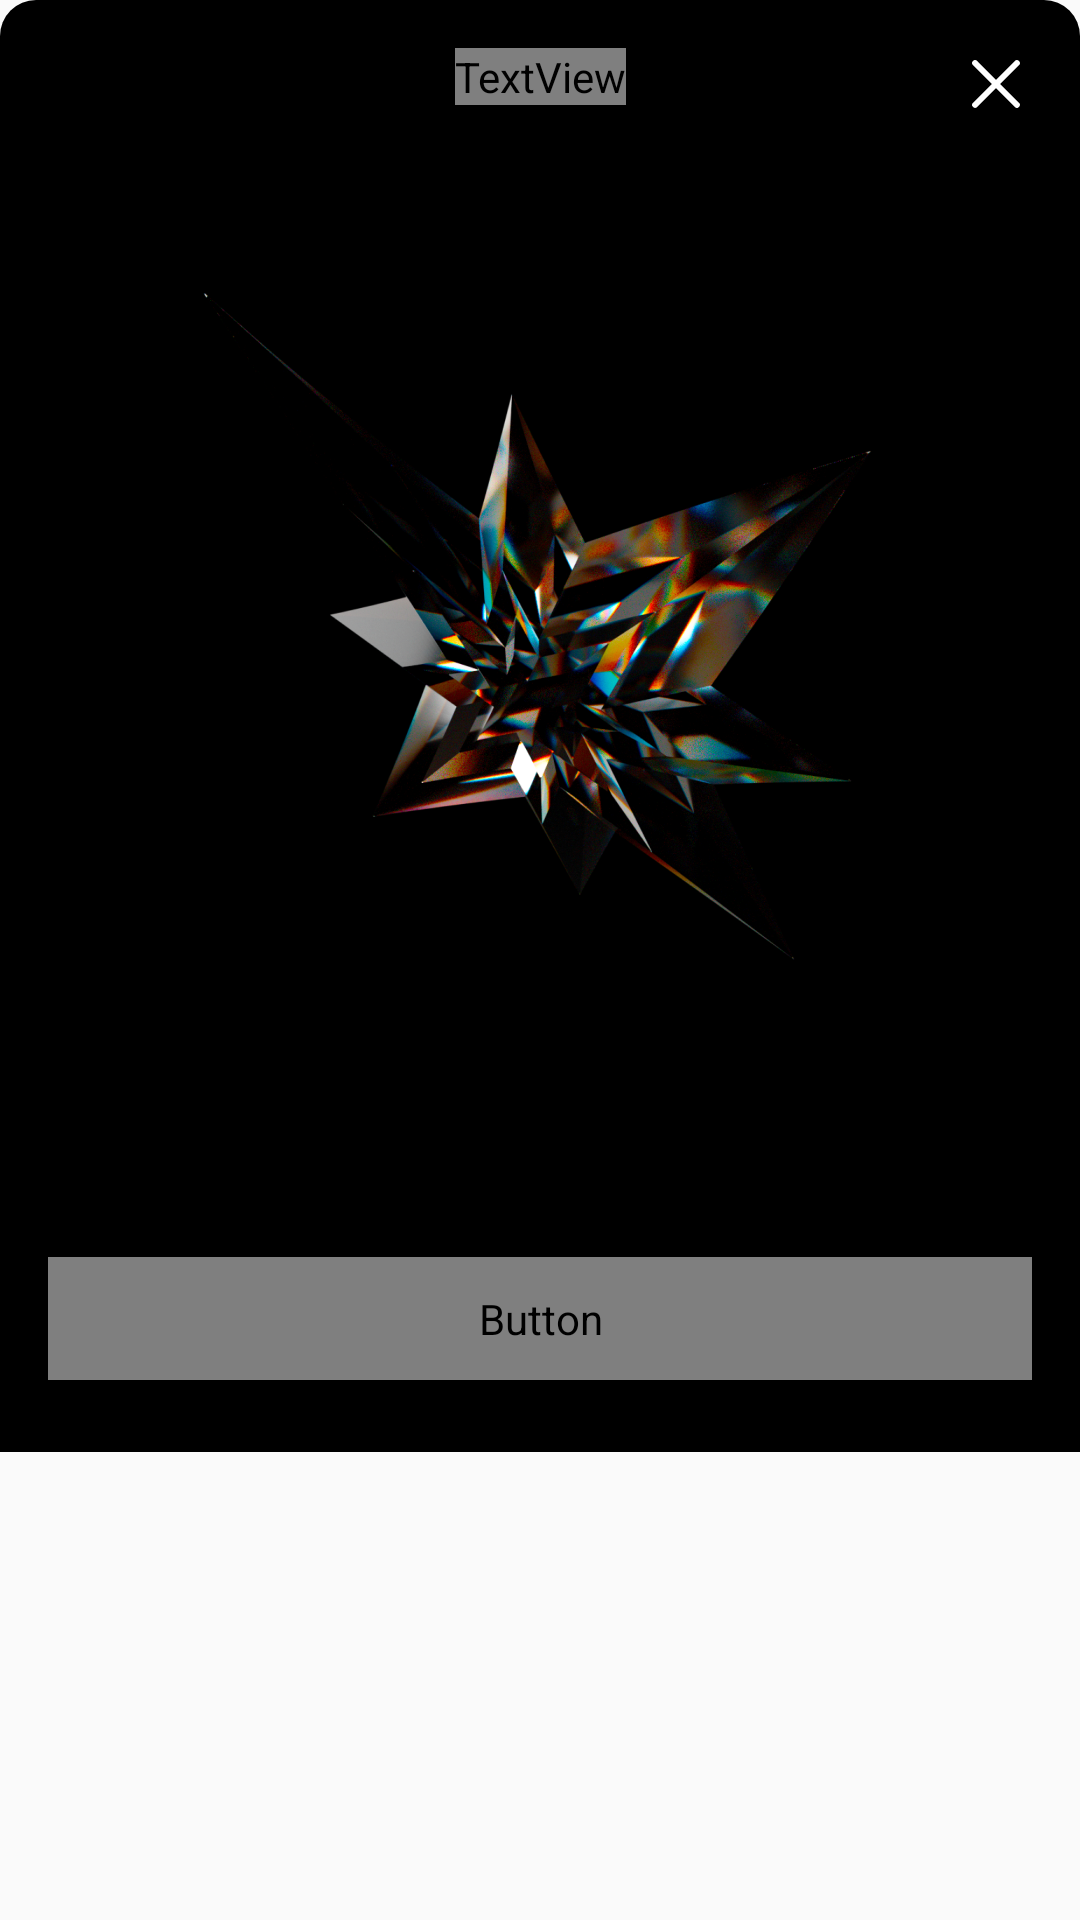

Screen size 1080×1920. Icon name, then its box in pixels as {"x1": x1, "y1": y1, "x2": x2, "y2": y2}:
close: {"x1": 972, "y1": 60, "x2": 1020, "y2": 108}
